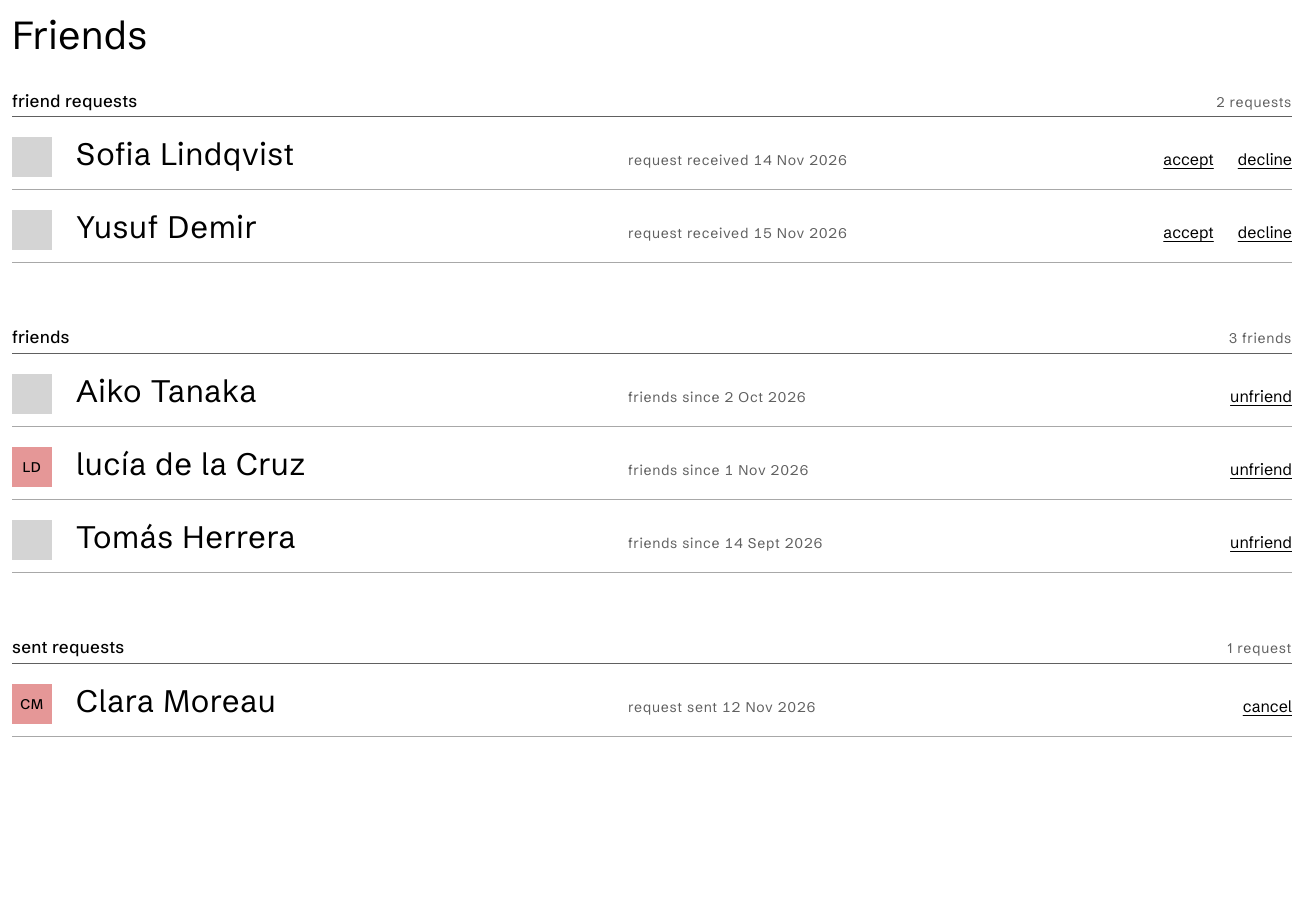
it: FriendsPage actions (F-49, F-50, F-55, B-26, B-27) › F-49, B-27: "decline" removes the request
Expected: the element "friends" is shown, [12,327,1292,573]
Click the button named "decline request from Yusuf Demir". click: (1265, 233)
box: [1238,221,1292,245]
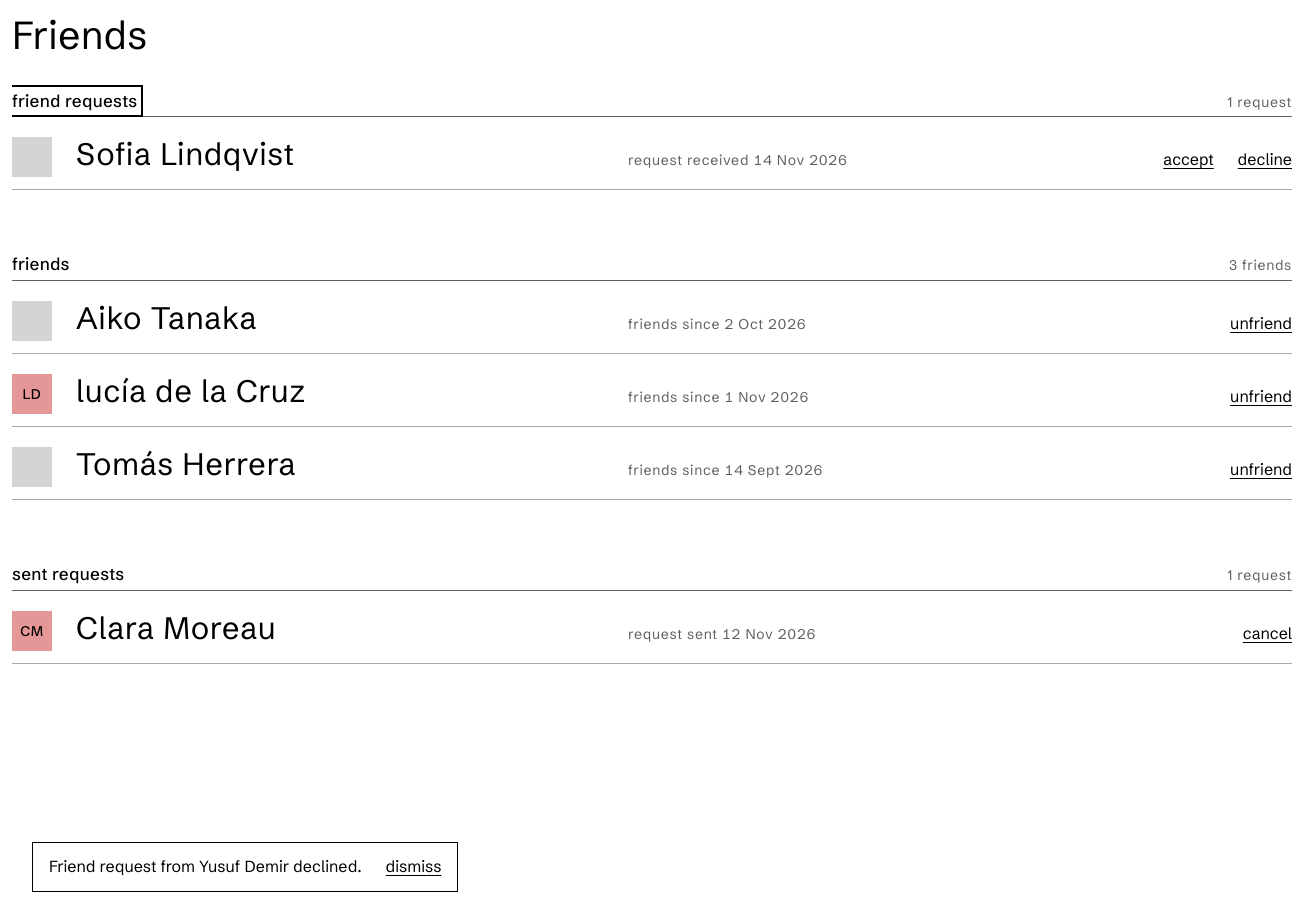
Expected: the text "Yusuf Demir" is not shown
Expected: the text "Friend request from Yusuf Demir declined." is shown, [49,855,362,879]
